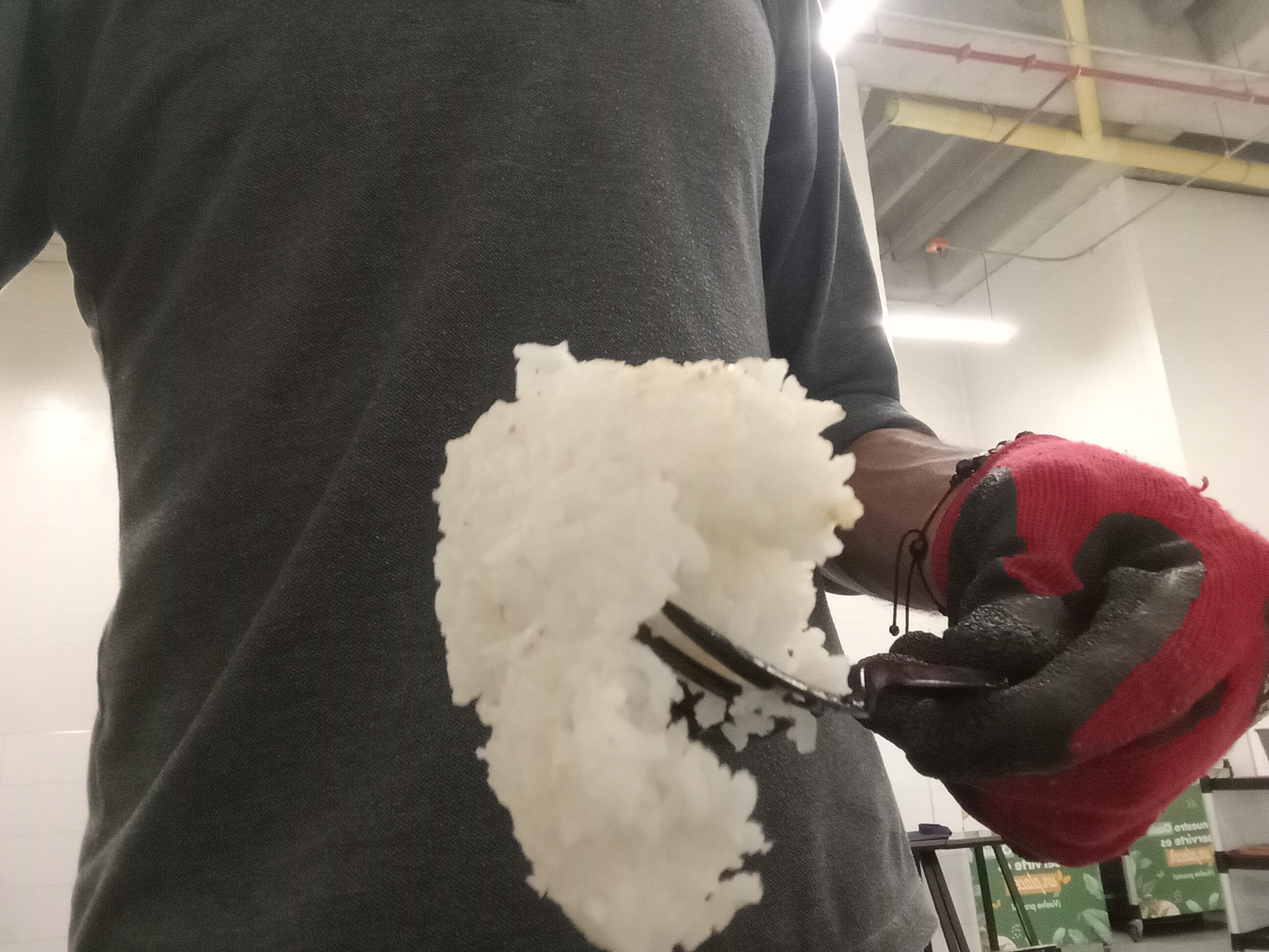Organico: (431, 340, 861, 952)
